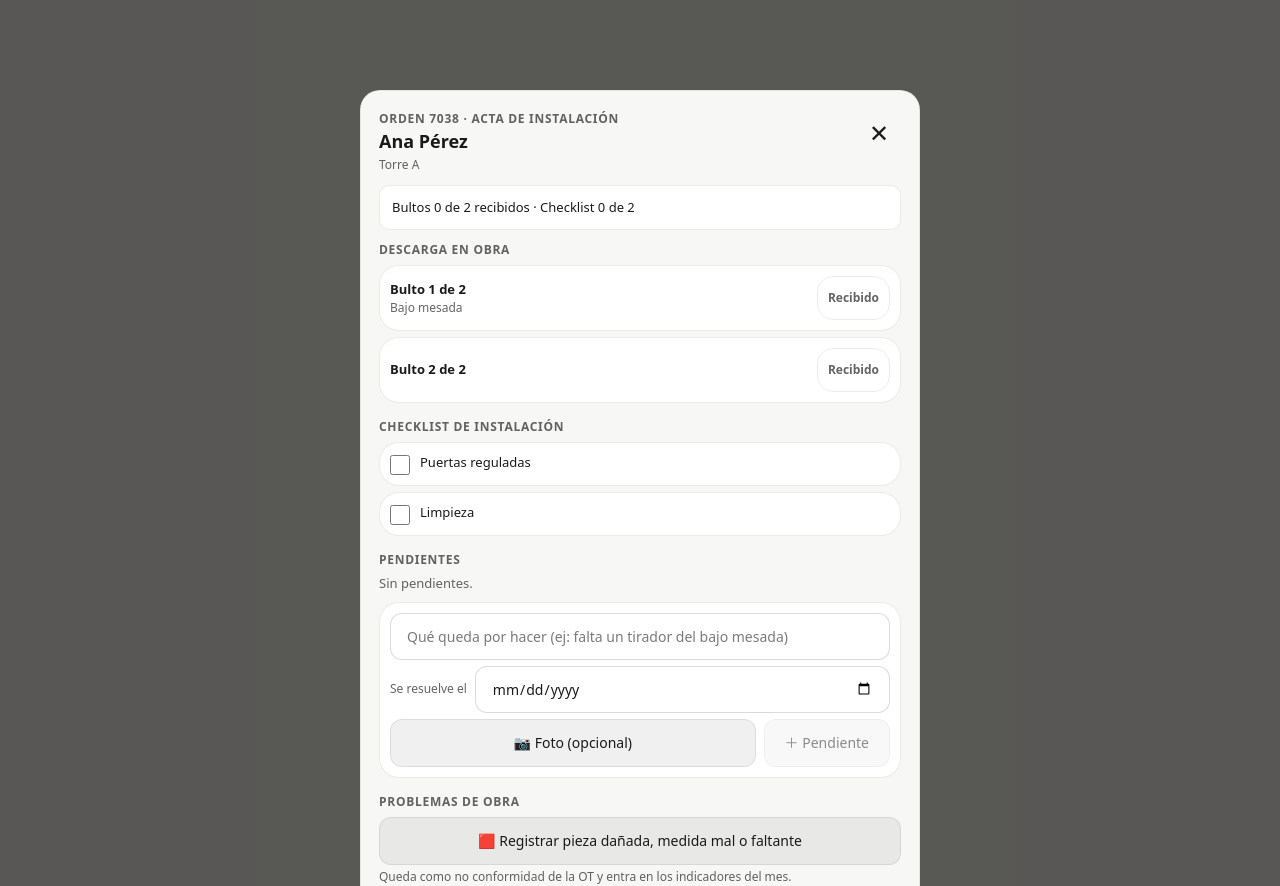
pantalla — descarga, checklist y pendientes; sin firma no se puede firmar
Expected: the text "Bulto 1 de 2" is shown, [390,280,466,298]
Expected: the text "Bultos 0 de 2 recibidos · Checklist 0 de 2" is shown, [379,185,901,230]
Click the button with aria-label "Recibido bulto 1": click(853, 298) [817,276,890,320]
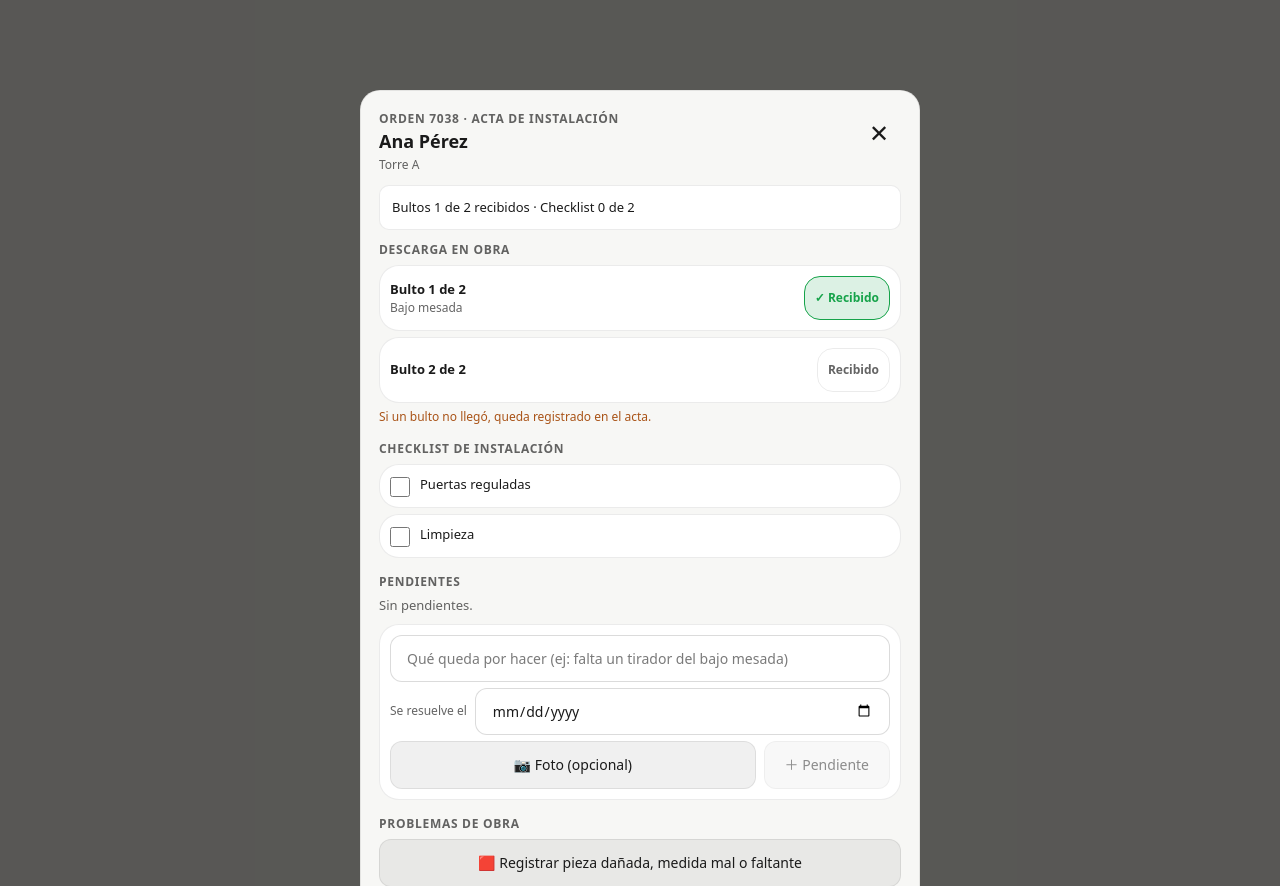
Click the checkbox labelled "Limpieza": click(400, 537) [390,527,410,547]
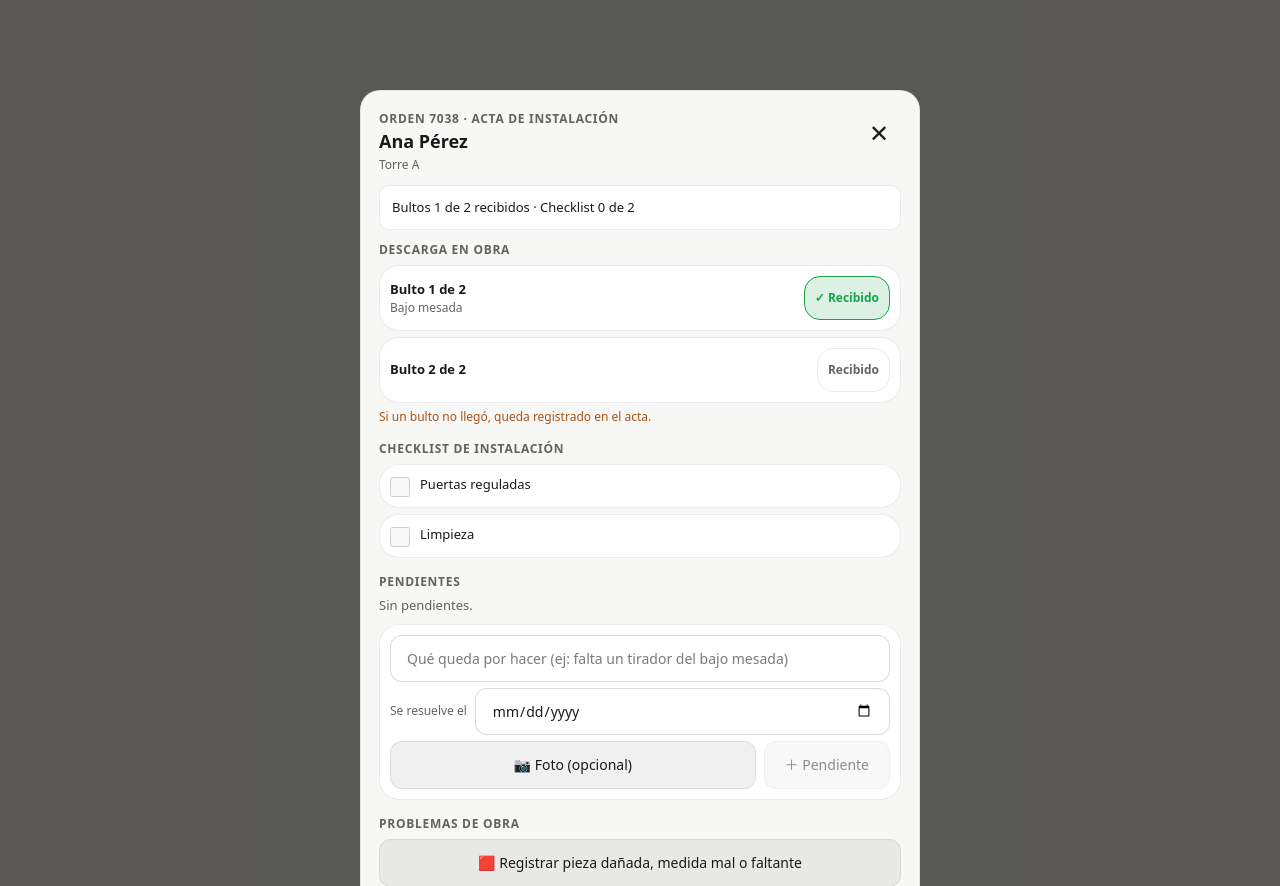
In the field named "Pendiente nuevo": (640, 658) [390,635,890,682], type "Regular puerta del alacena"
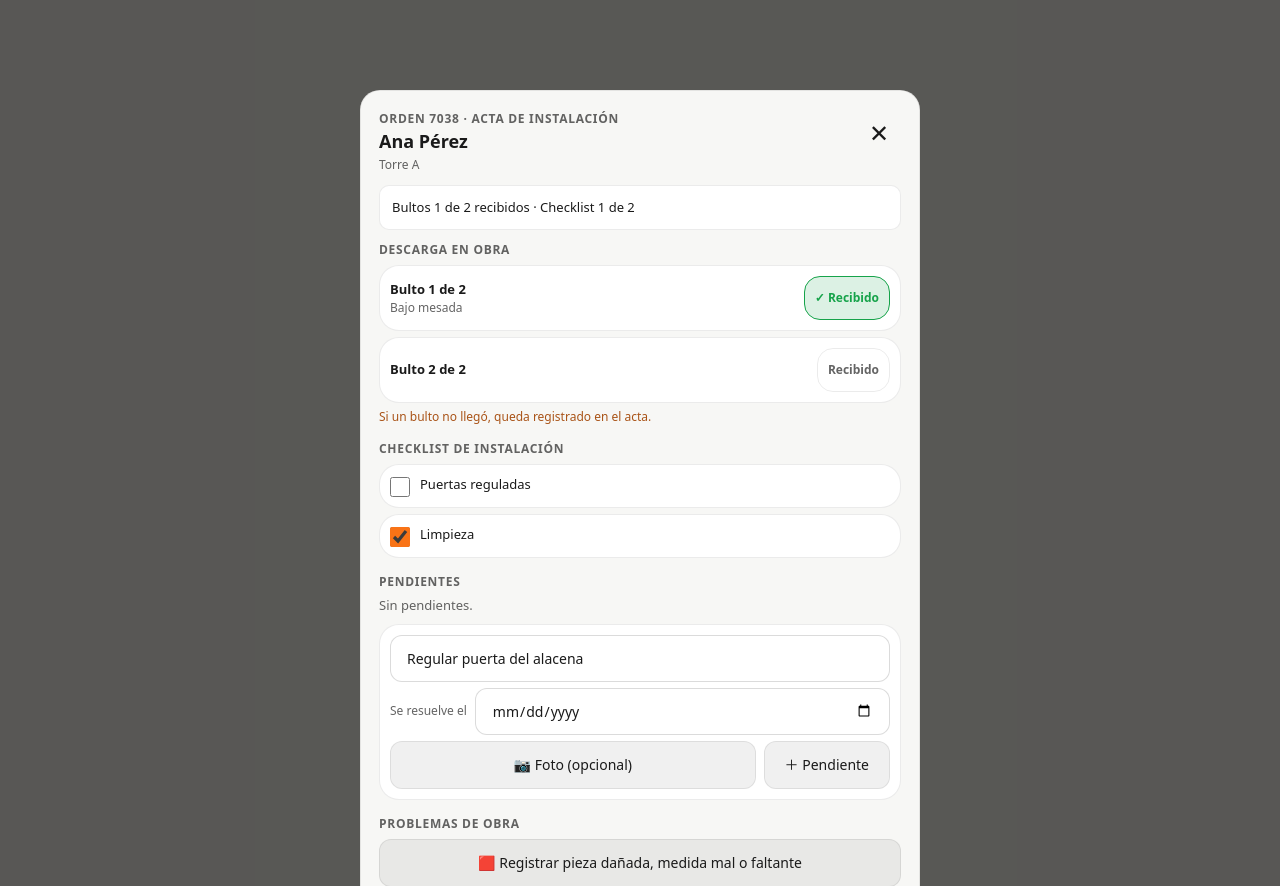
In the date field labelled "Se resuelve el": (682, 712) [475,688,890,735], type "2026-10-20"
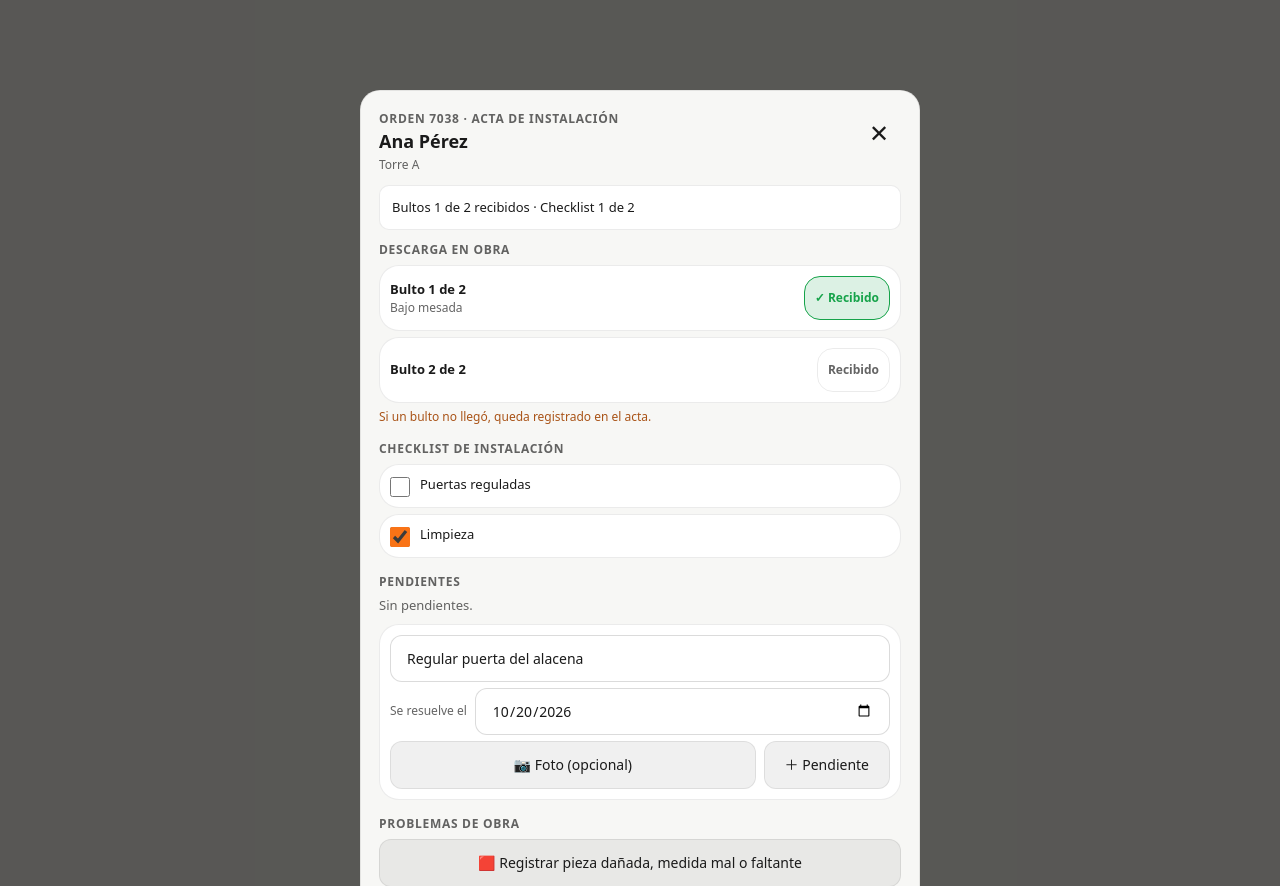
Click the button "＋ Pendiente": click(827, 765) [764,741,890,789]
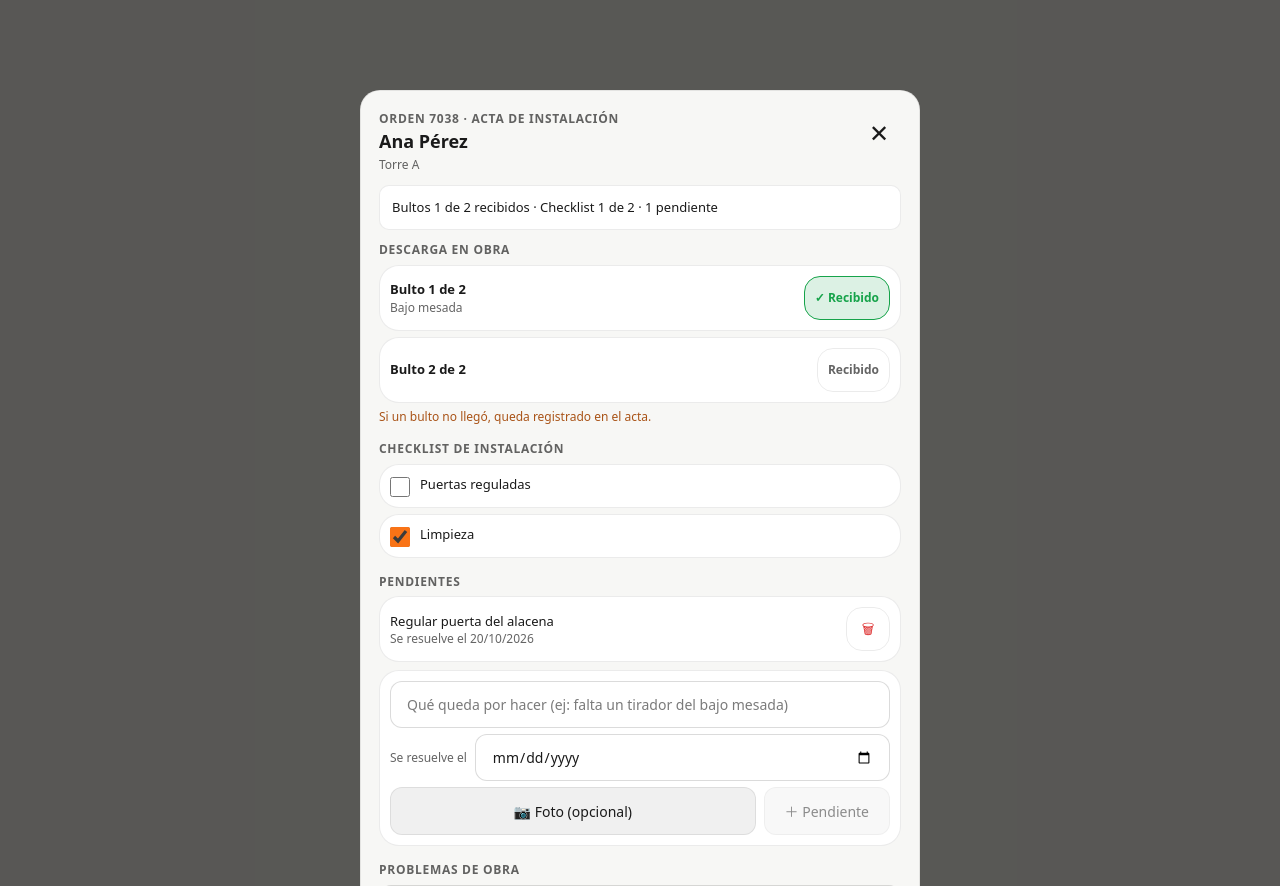
Now the text "Regular puerta del alacena" is shown, box [390,612,554,630]
